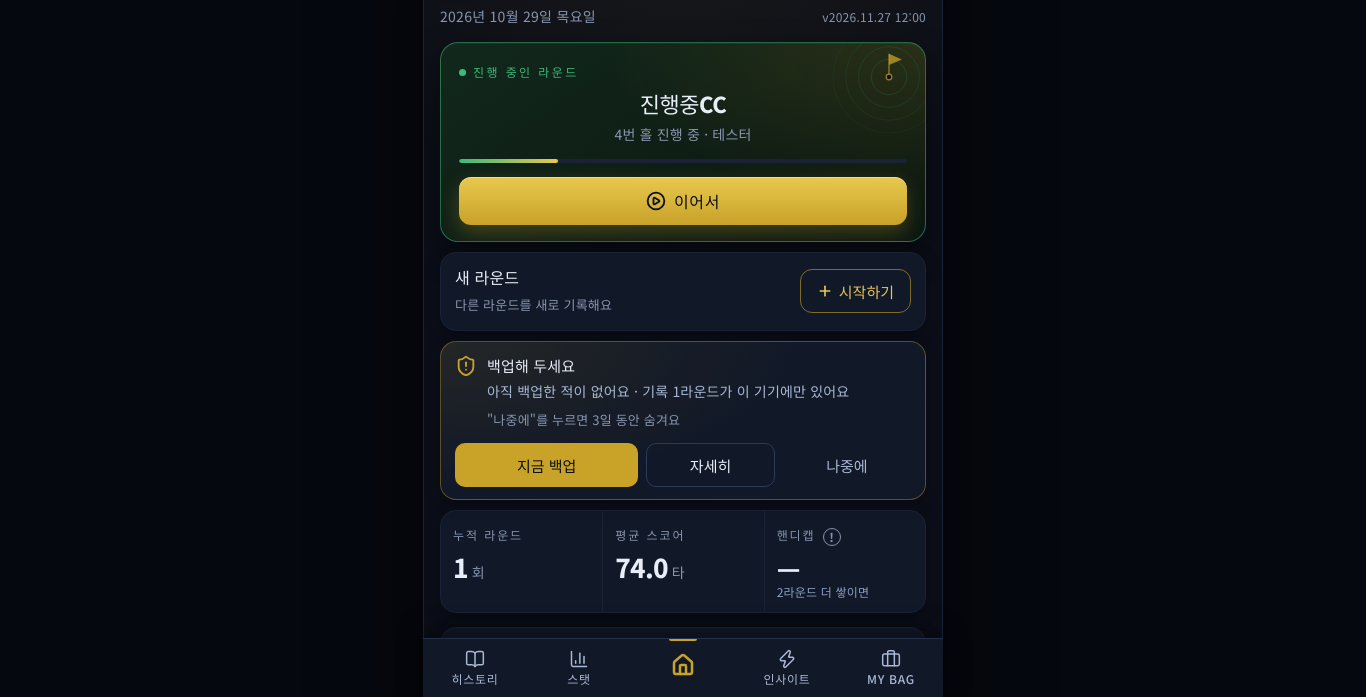
진행 중인 라운드 보호 › 히스토리 → 리포트의 "새 라운드 시작"도 진행 중 라운드 확인 창을 거친다 (덮어쓰지 않는다)
This screenshot has width=1366, height=697.
Check: the text "새 라운드" is shown, box 455,265 -> 519,289
Click the button titled "히스토리": click(475, 668) 423,639 -> 527,696
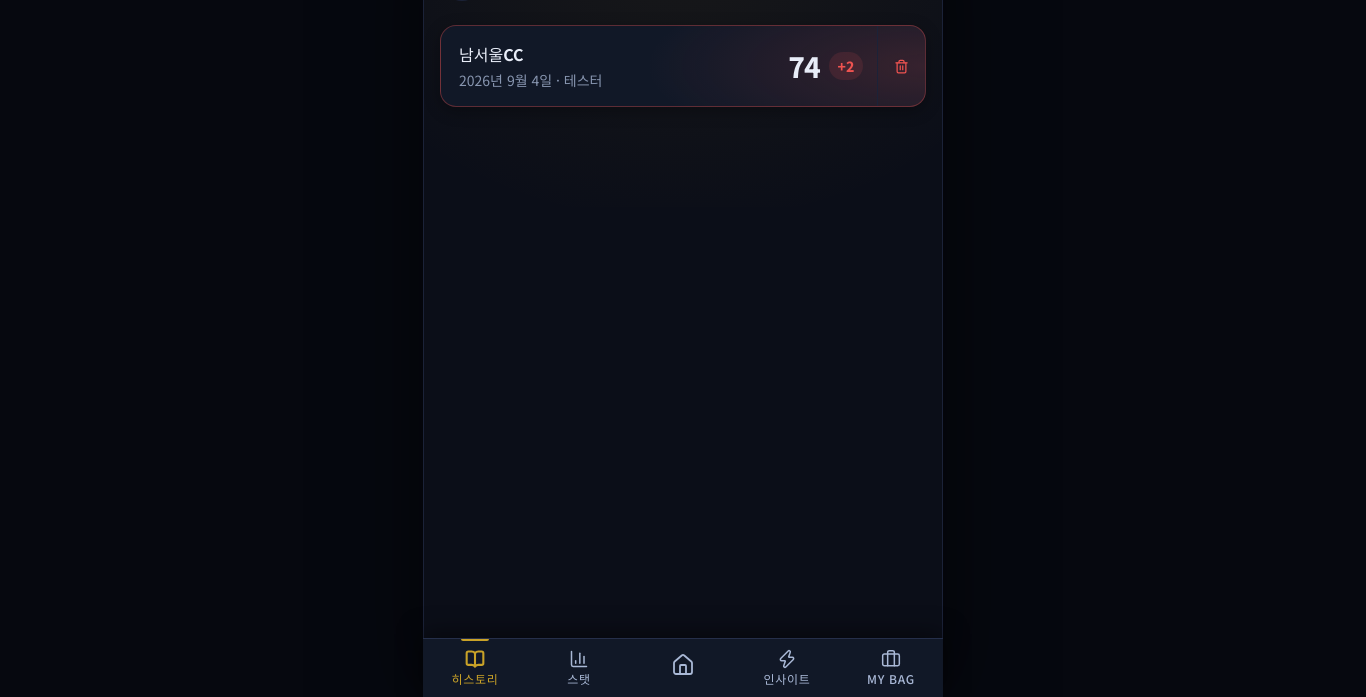
Click the text "남서울CC": click(491, 54) 459,42 -> 524,66
(page scrolled)
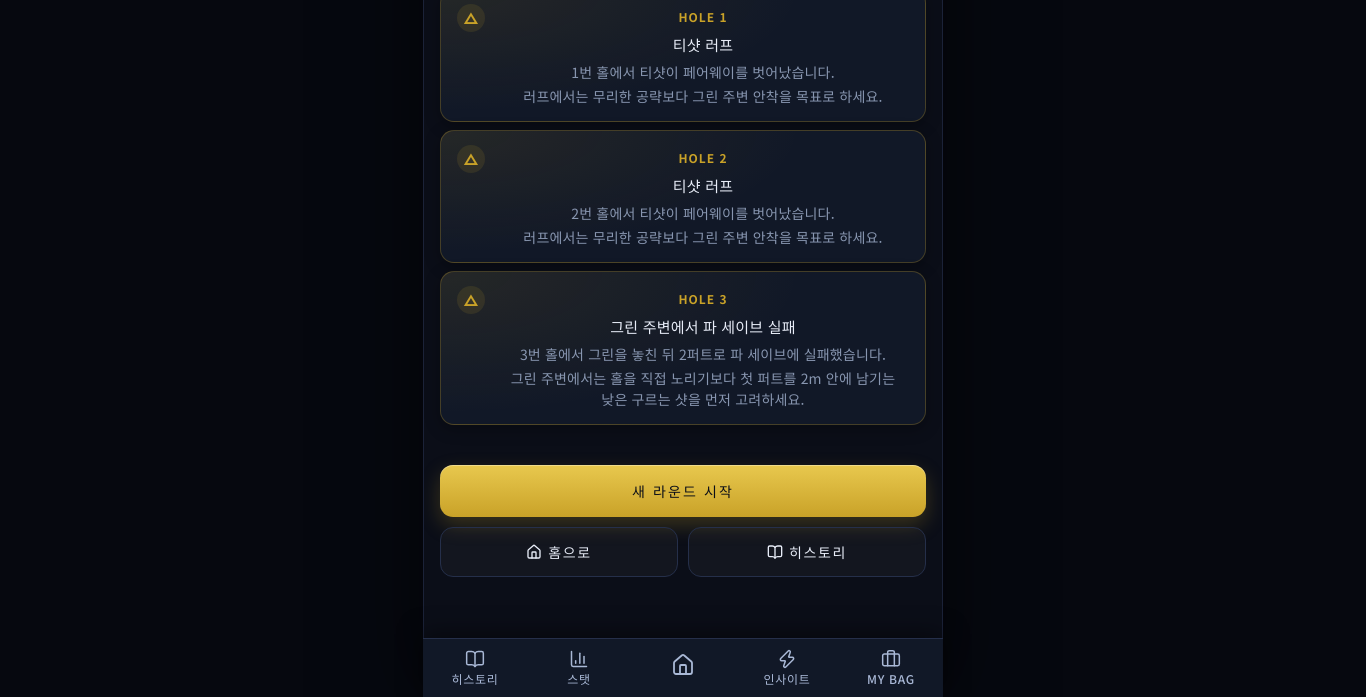
Click the button "새 라운드 시작": click(683, 491) 440,465 -> 926,517
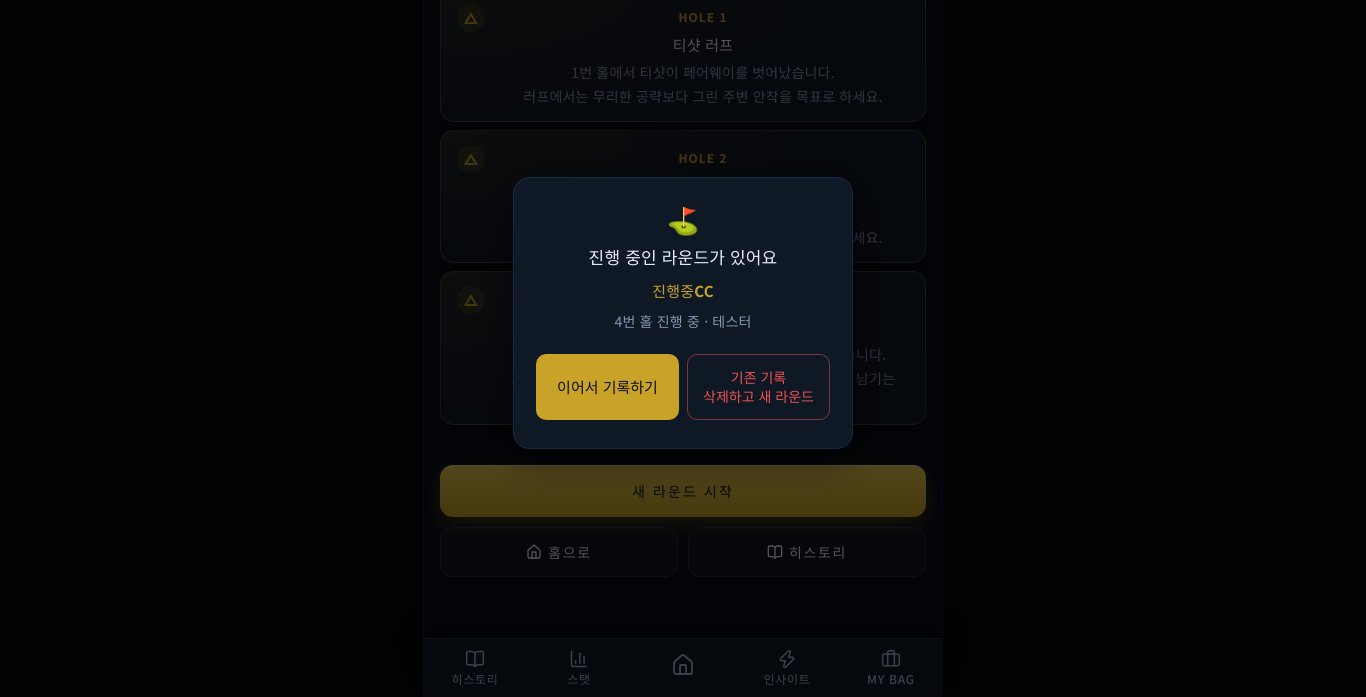
Check: the text "진행 중인 라운드가 있어요" is shown, box 589,244 -> 777,269
Check: the text "진행중CC" is shown, box 652,280 -> 714,301
